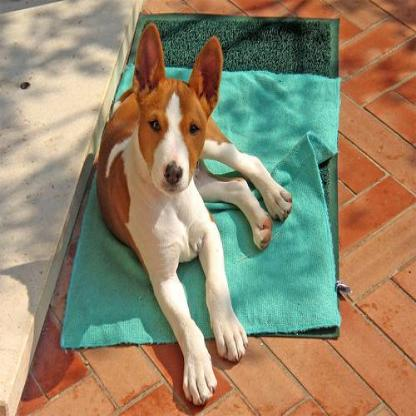basenji: (94, 21, 294, 405)
